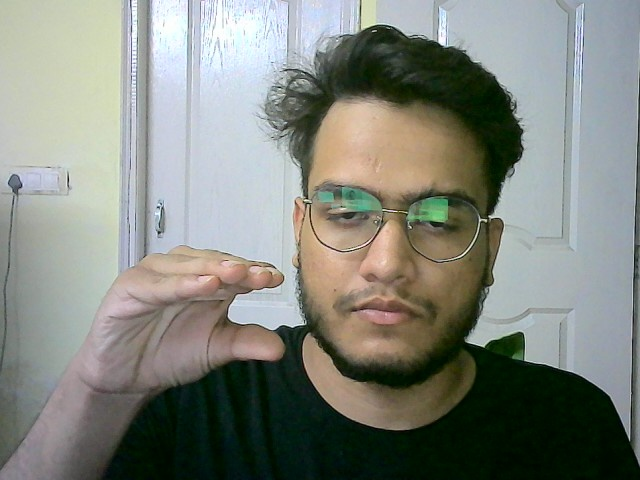No: (63, 240, 292, 403)
